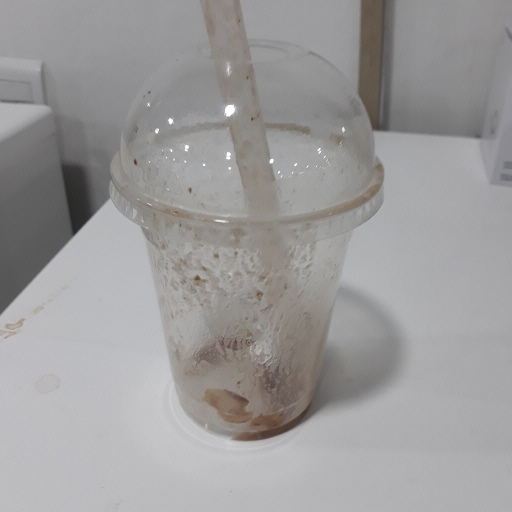Plastic_2: (105, 1, 381, 444)
